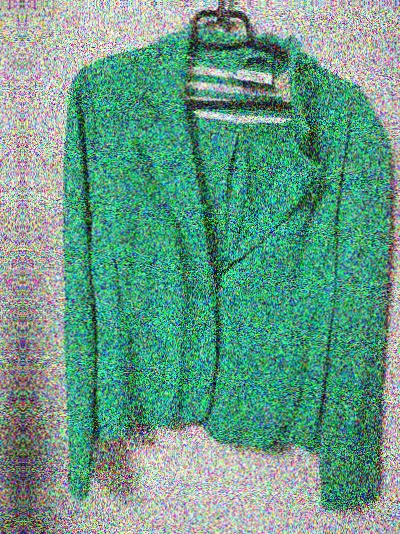Blazer: (44, 33, 392, 520), (0, 34, 0, 521)
